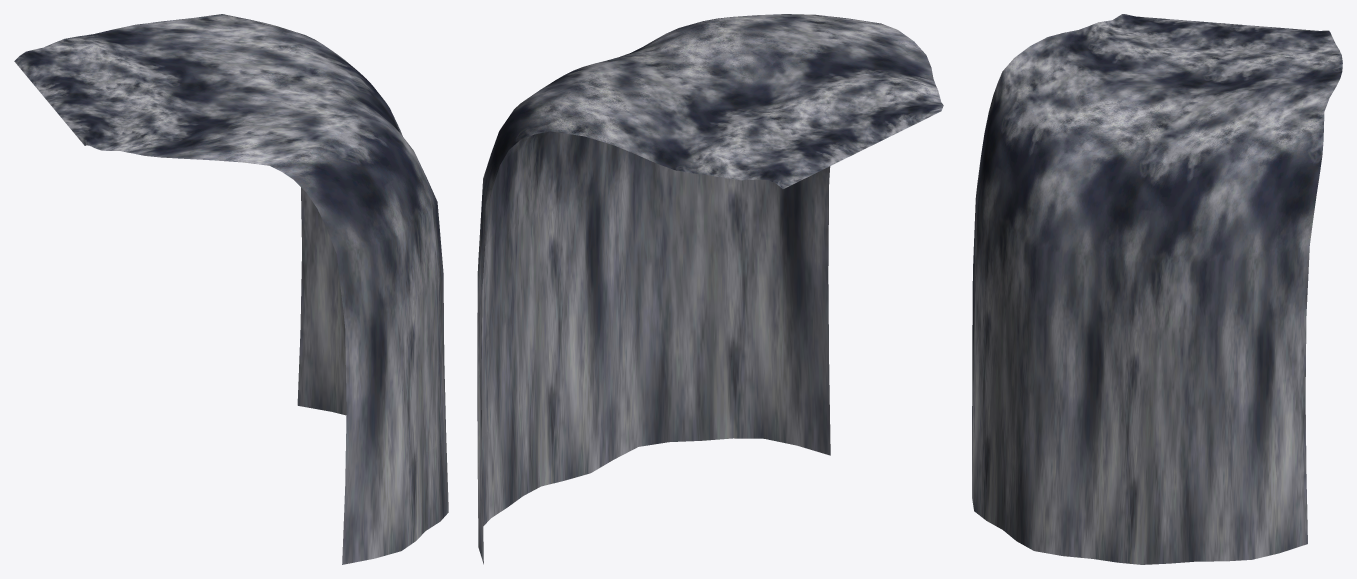
The model's file is TROLLHOLE02_WATER01.fbx.
The picture shows the model from 3 angles, left to right: view 1: azimuth 30°, elevation 25°; view 2: azimuth 150°, elevation 25°; view 3: azimuth 270°, elevation 25°; orthographic projection. The views are drawn at different scales.
Visible parts, largest first — view 1: TROLLHOLE02_WATER01; view 2: TROLLHOLE02_WATER01; view 3: TROLLHOLE02_WATER01.
Part boxes in pixels (x1,y1,x2,y2): TROLLHOLE02_WATER01: (14, 14, 448, 564); TROLLHOLE02_WATER01: (477, 14, 943, 564); TROLLHOLE02_WATER01: (972, 14, 1342, 564).
Size of the model in its own units: 300683 by 347032 by 292588.
1 material, 1 textured.
